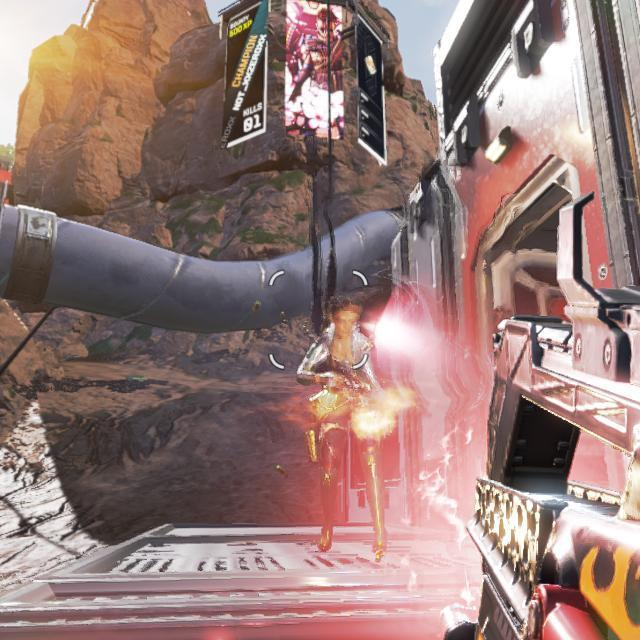avatar: (301, 297, 398, 556)
